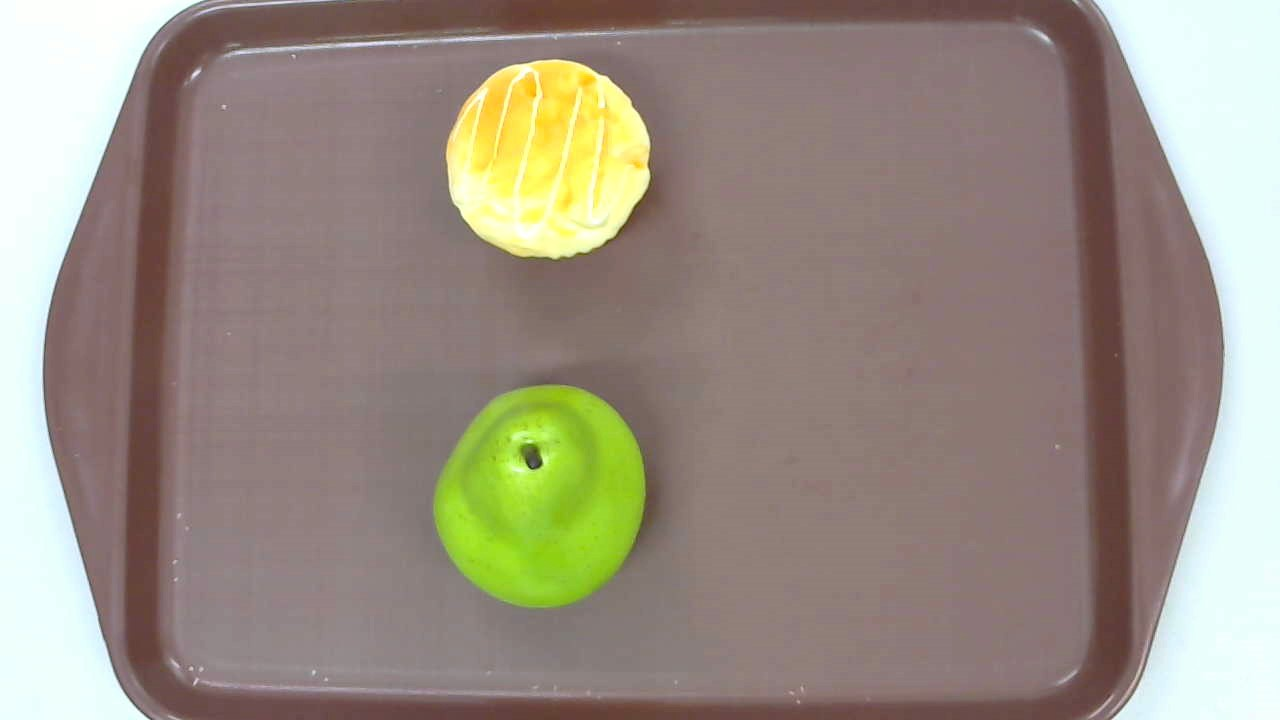cupcake: (446, 60, 652, 260)
green pear: (433, 382, 644, 608)
